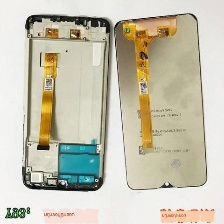phone: (110, 10, 210, 193), (18, 12, 114, 194)
